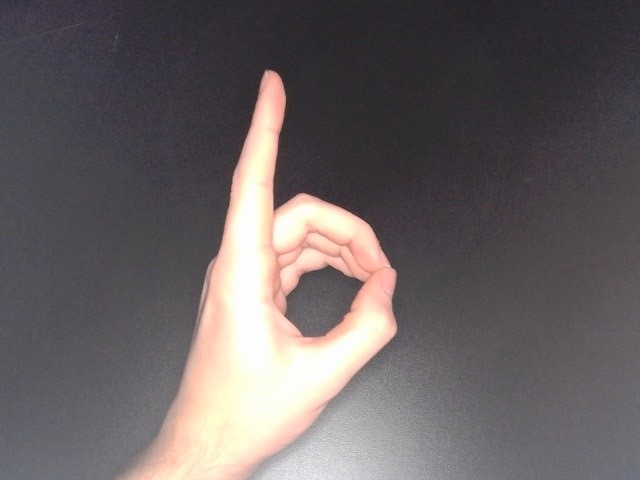d: (165, 64, 403, 462)
